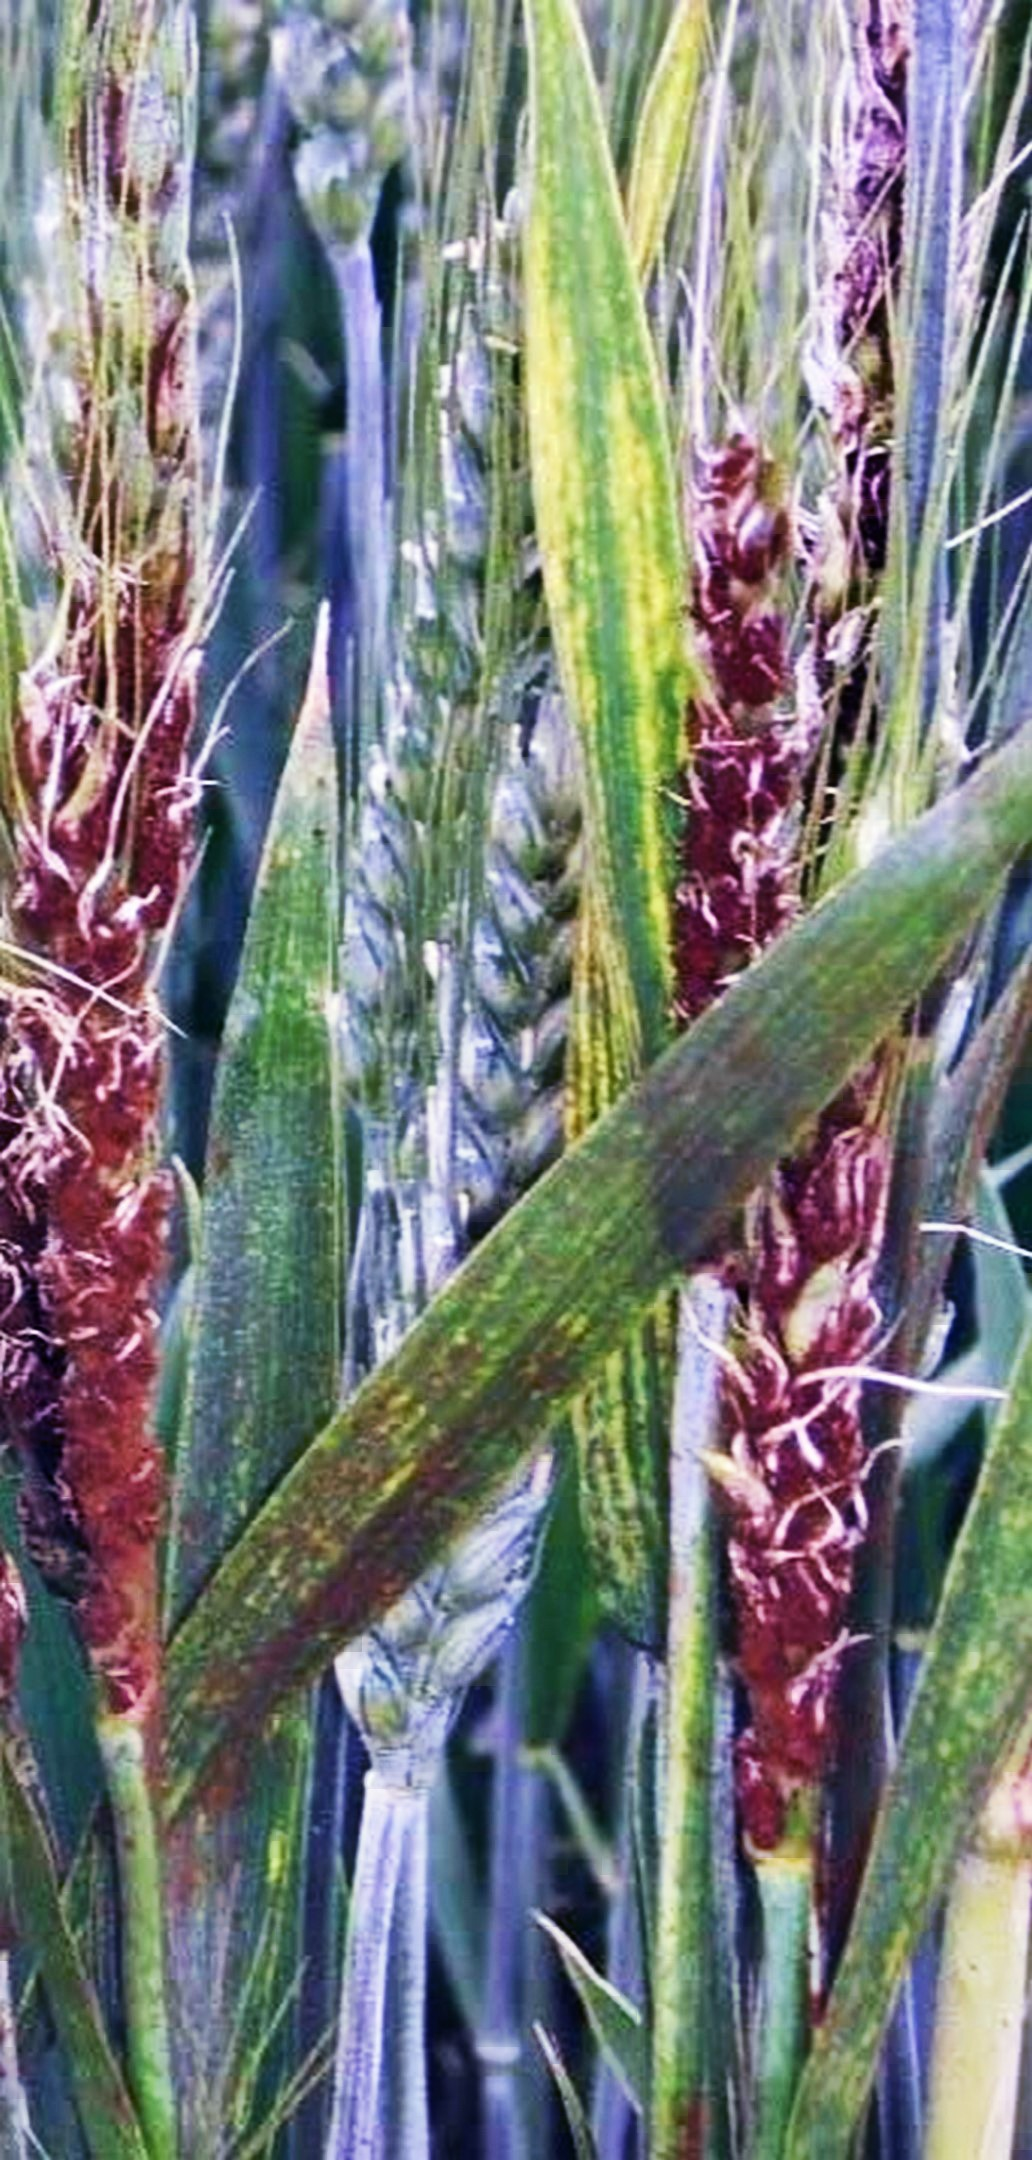Wheat Loose Smut: (1, 628, 240, 1726), (705, 1077, 889, 1854), (631, 398, 823, 1048)
